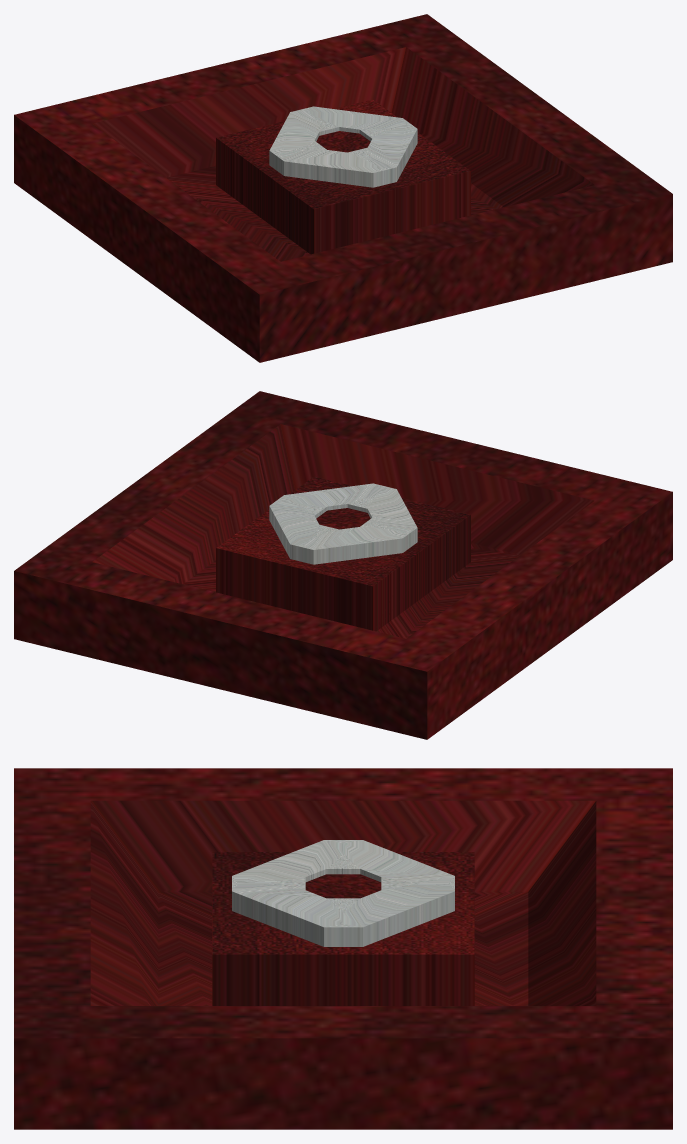
The model's file is sign on wall.FBX.
The picture shows the model from 3 angles, top to bottom: view 1: azimuth 30°, elevation 25°; view 2: azimuth 150°, elevation 25°; view 3: azimuth 270°, elevation 25°; orthographic projection. The views are drawn at different scales.
Visible parts, largest first — view 1: Box001, Object003, Object002, Object001; view 2: Box001, Object003, Object002, Object001; view 3: Box001, Object003, Object002, Object001.
Boxes of the visible parts, x1,y1,x2,y2 form: Box001: (14,14,672,362); Object003: (92,47,594,261); Object002: (216,99,470,254); Object001: (269,106,417,187); Box001: (14,391,672,739); Object003: (92,424,594,638); Object002: (216,476,470,631); Object001: (269,483,417,564); Box001: (14,768,672,1129); Object003: (90,800,596,1005); Object002: (212,852,474,1005); Object001: (232,840,454,946).
Size of the model in its own units: 69.97 by 13.4 by 72.1.
2 materials, 2 textured.
